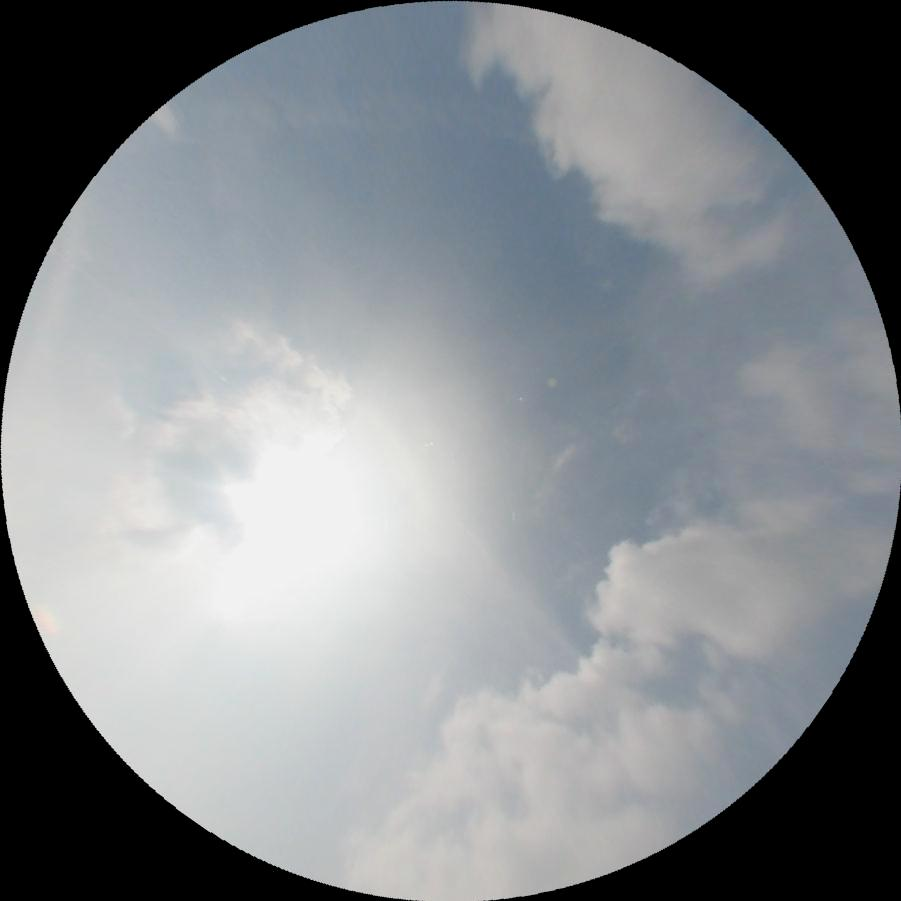sun: (178, 425, 378, 627)
